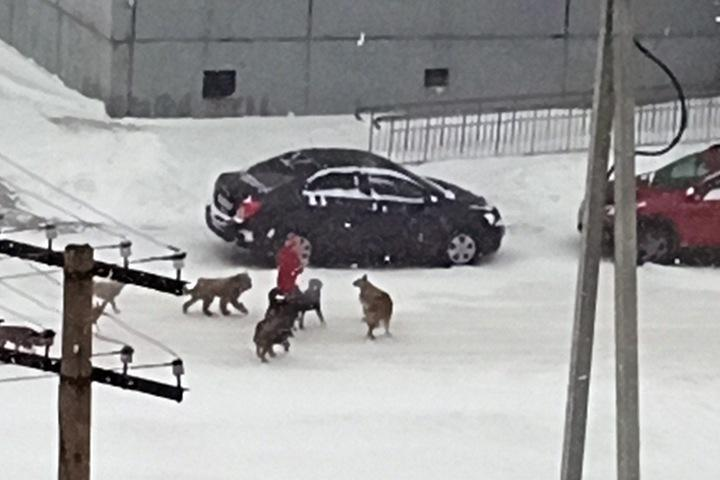dog_aggressive: (184, 273, 257, 323), (352, 271, 393, 342)
normal_dogs: (289, 277, 324, 335)
